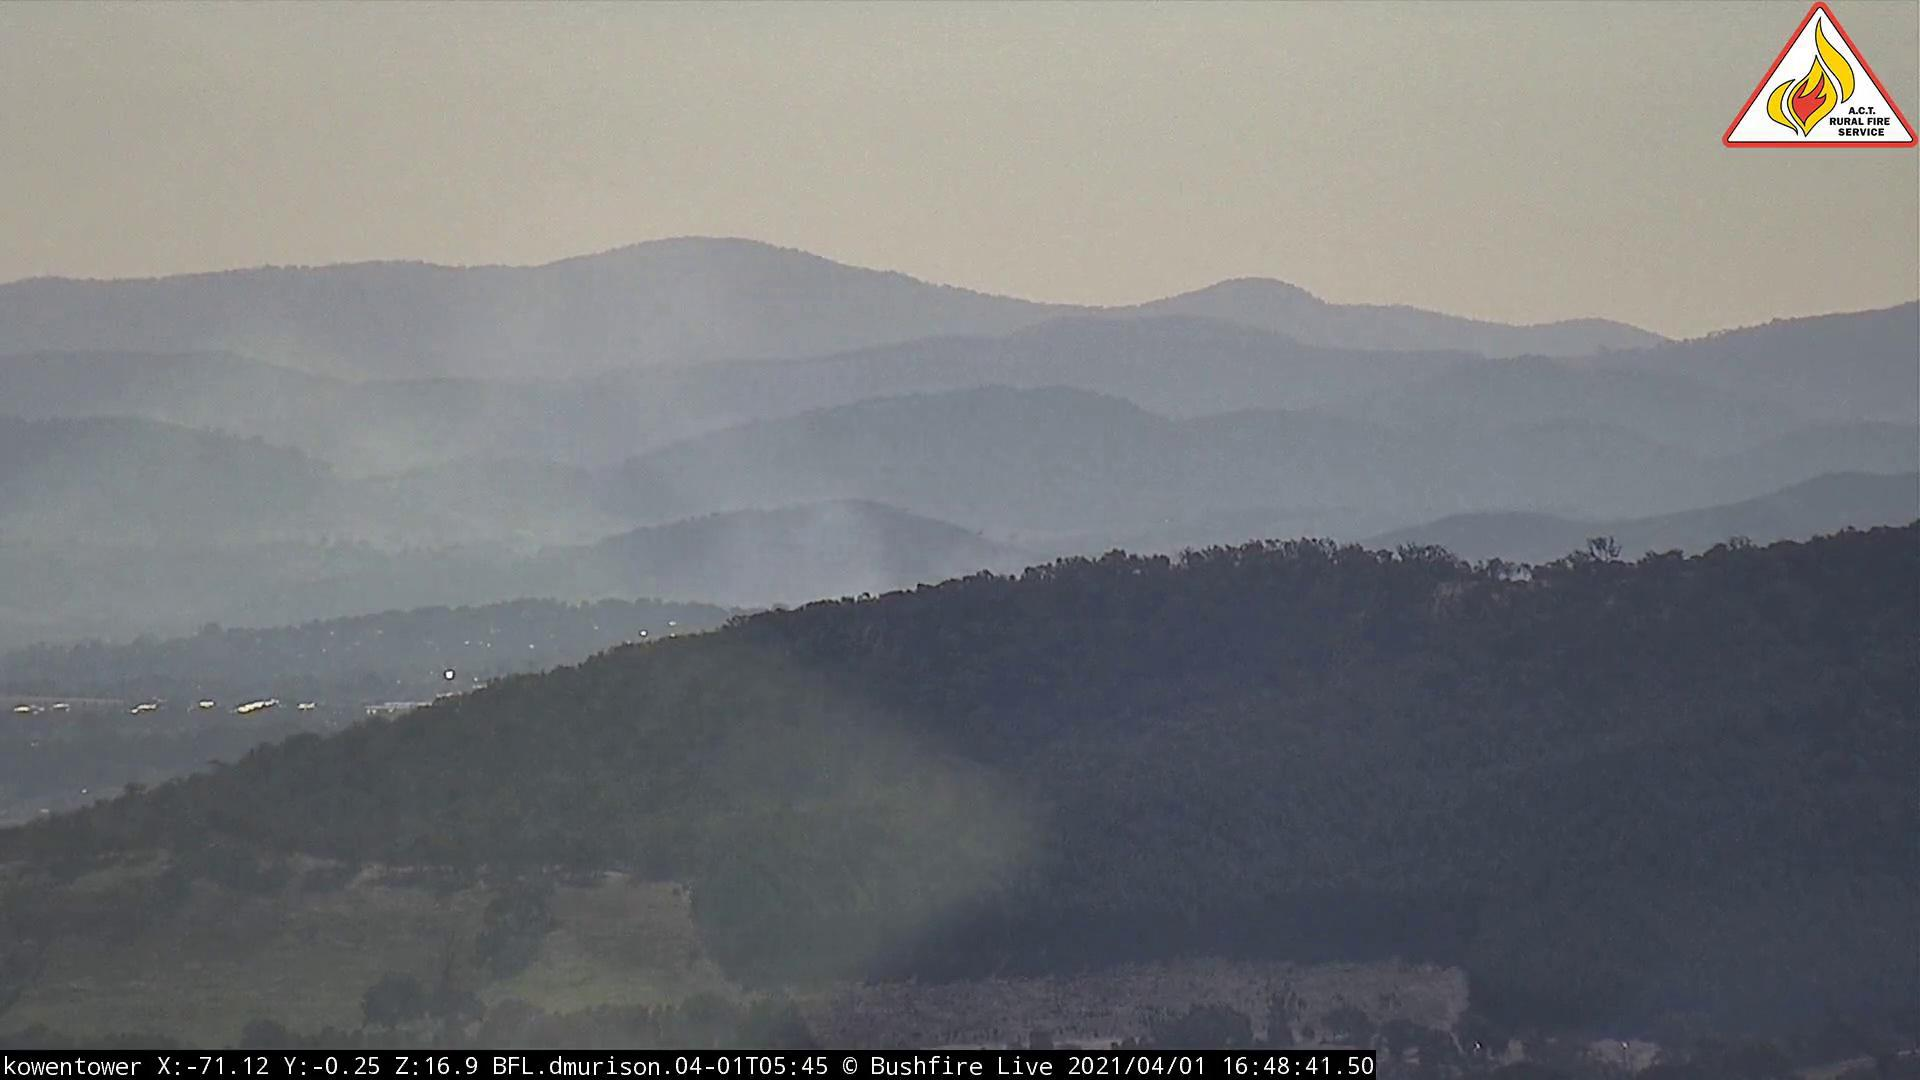Smoke: (491, 229, 910, 642)
